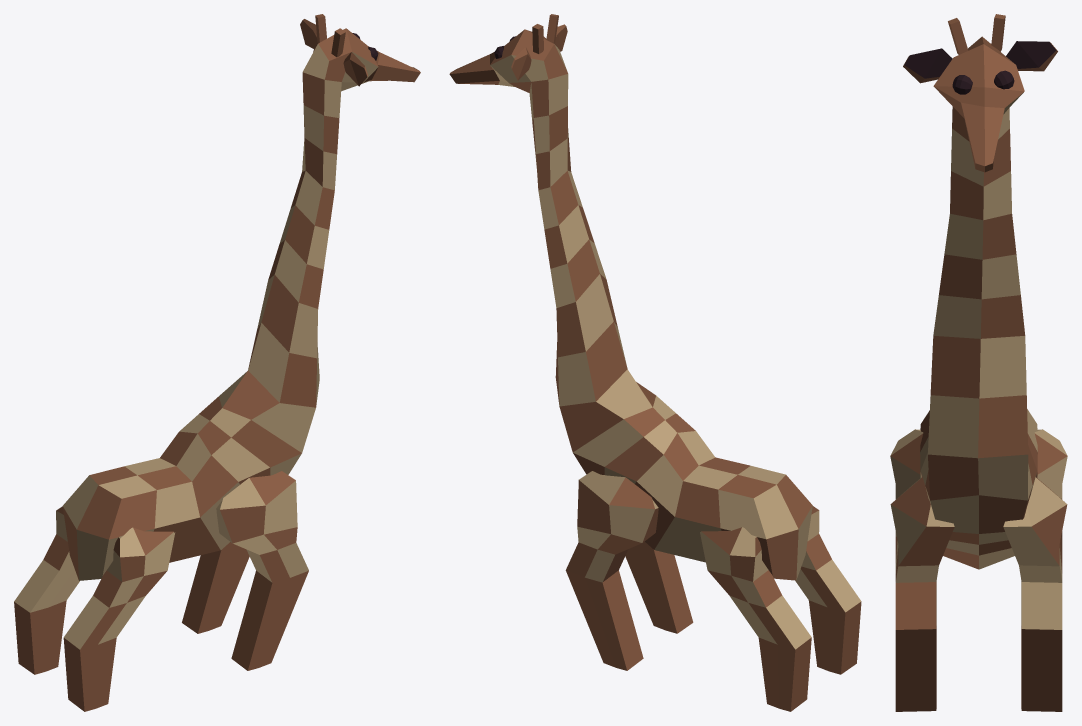
The model's file is giraffe.fbx.
3 views of the same model, side by side, from view 1: azimuth 30°, elevation 25°; view 2: azimuth 150°, elevation 25°; view 3: azimuth 270°, elevation 25° (orthographic). The views are drawn at different scales.
Visible parts, largest first — view 1: Cube; view 2: Cube; view 3: Cube.
Boxes of the visible parts, x1,y1,x2,y2 form: Cube: (14,14,420,711); Cube: (449,14,861,711); Cube: (890,14,1067,711).
Bounding box in the file's own units: 796 × 1215 × 259.
